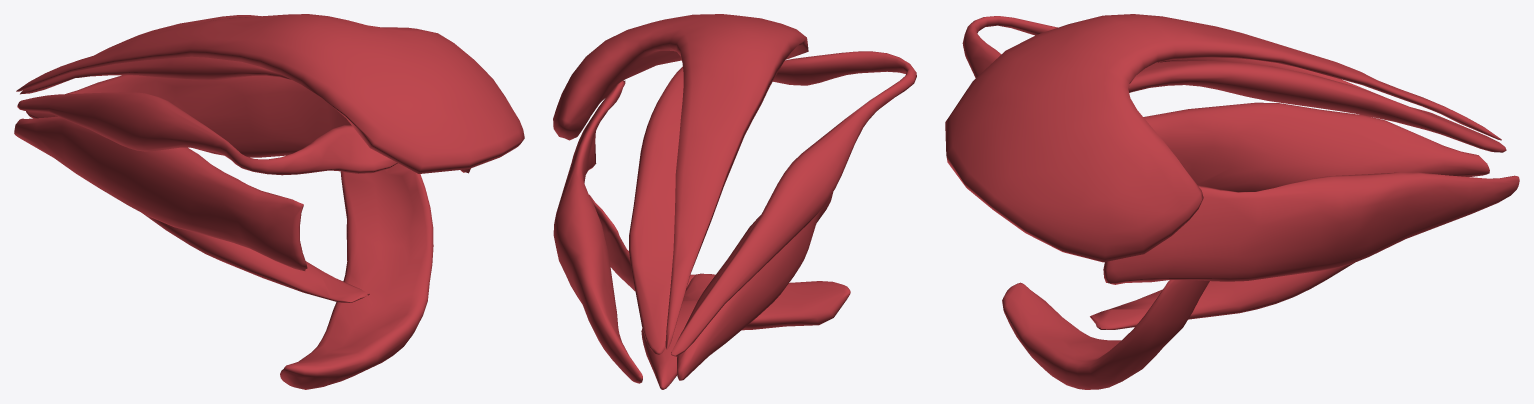
File: eye_muscles_l.glb
The picture shows the model from 3 angles, left to right: view 1: azimuth 30°, elevation 25°; view 2: azimuth 150°, elevation 25°; view 3: azimuth 270°, elevation 25°; orthographic projection. The views are drawn at different scales.
Parts seen in each view (by area): view 1: VH_F_superior_oblique_extraocular_muscle_L; view 2: VH_F_superior_oblique_extraocular_muscle_L; view 3: VH_F_superior_oblique_extraocular_muscle_L.
Boxes of the visible parts, x1,y1,x2,y2 form: VH_F_superior_oblique_extraocular_muscle_L: (14, 14, 524, 389); VH_F_superior_oblique_extraocular_muscle_L: (553, 14, 916, 389); VH_F_superior_oblique_extraocular_muscle_L: (945, 14, 1519, 389).
Bounding box in the file's own units: 0.0367 × 0.0358 × 0.0545.
